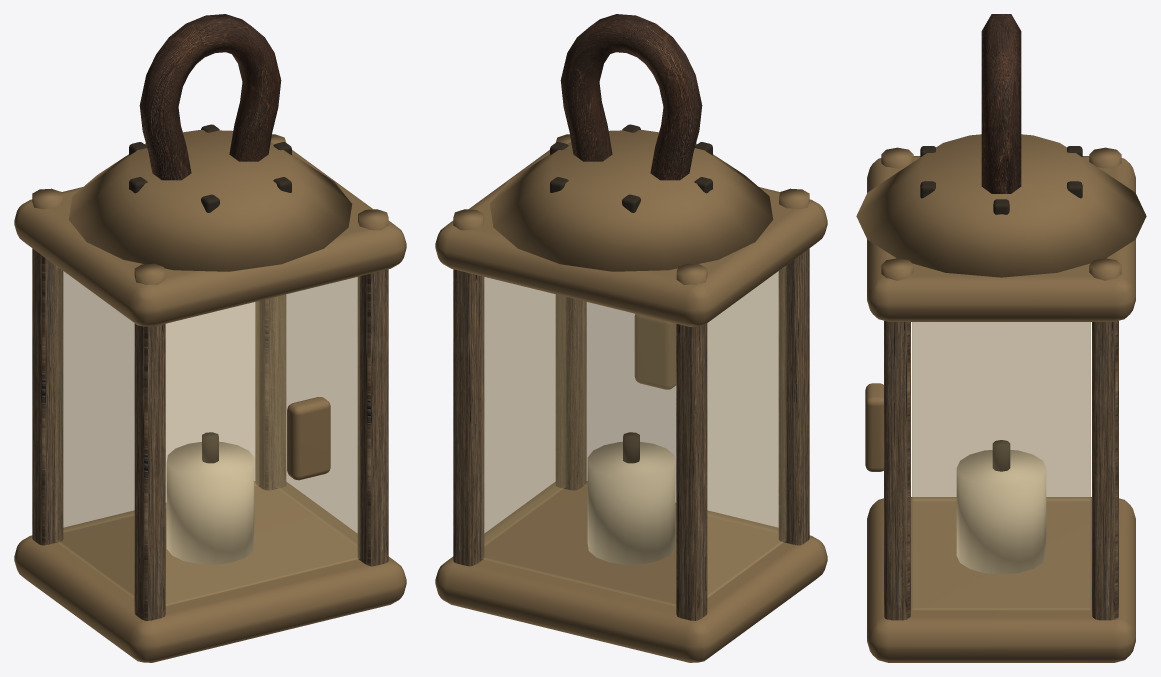
File: belt_lantern.glb
The picture shows the model from 3 angles, left to right: view 1: azimuth 30°, elevation 25°; view 2: azimuth 150°, elevation 25°; view 3: azimuth 270°, elevation 25°; orthographic projection.
Visible parts, largest first — view 1: belt_lantern_mesh; view 2: belt_lantern_mesh; view 3: belt_lantern_mesh.
Part boxes in pixels (bbox=[...]): belt_lantern_mesh: bbox=[14, 14, 406, 662]; belt_lantern_mesh: bbox=[435, 14, 827, 662]; belt_lantern_mesh: bbox=[856, 14, 1146, 662].
Bounding box in the file's own units: 0.18 × 0.358 × 0.162.
6 materials, 2 textured.
